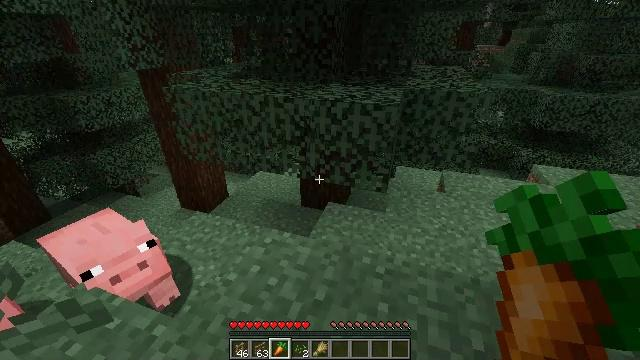pig: (38, 207, 181, 312)
